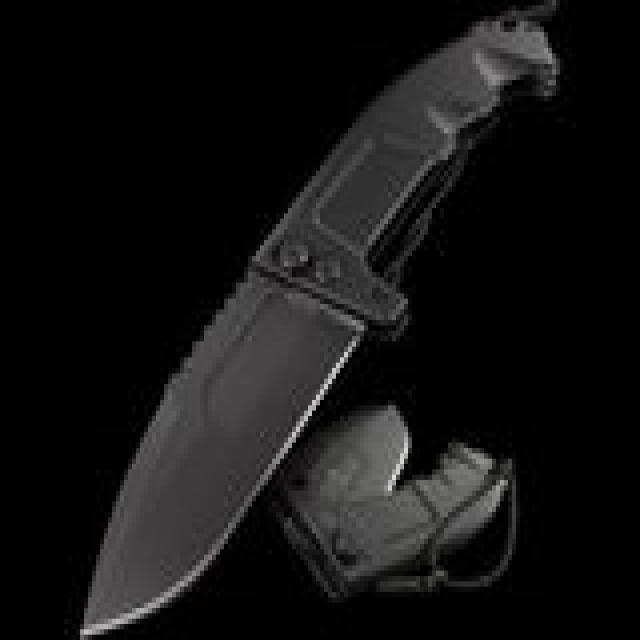Knife: (65, 25, 563, 633)
